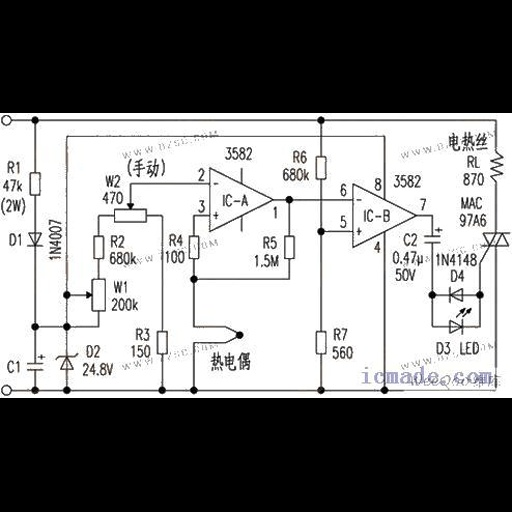amplifier: (206, 164, 274, 232), (351, 182, 416, 250)
firstpolarcapacitor: (423, 225, 446, 248), (25, 352, 47, 374)
firstresistance: (282, 232, 301, 263), (153, 326, 171, 357), (90, 231, 107, 262), (312, 153, 330, 182), (187, 232, 203, 262), (28, 170, 45, 198), (314, 329, 329, 359)
seconddiode: (24, 229, 45, 251), (445, 284, 466, 304)
secondled: (443, 307, 473, 335)
secondresistance: (490, 145, 507, 189)
